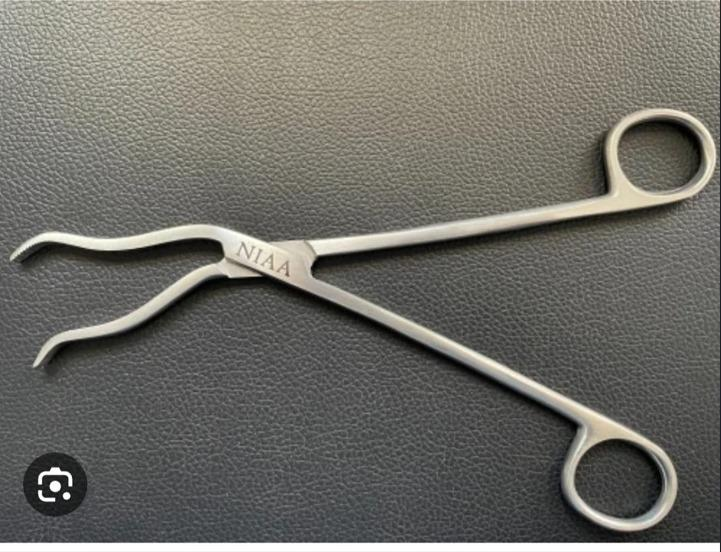Cheatle Forceps: (6, 89, 717, 544)
